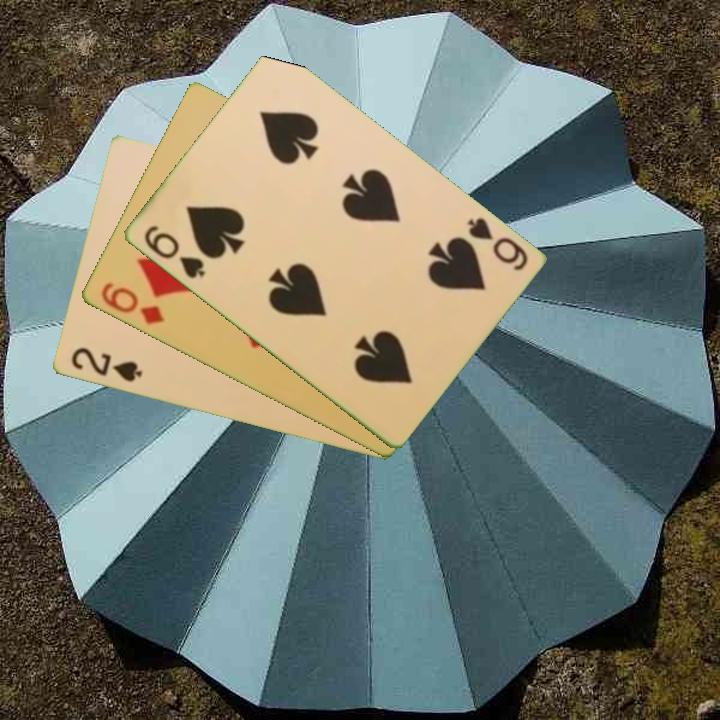2s: (67, 344, 145, 386)
6d: (96, 279, 167, 328)
6s: (463, 213, 531, 274), (139, 222, 208, 282)
